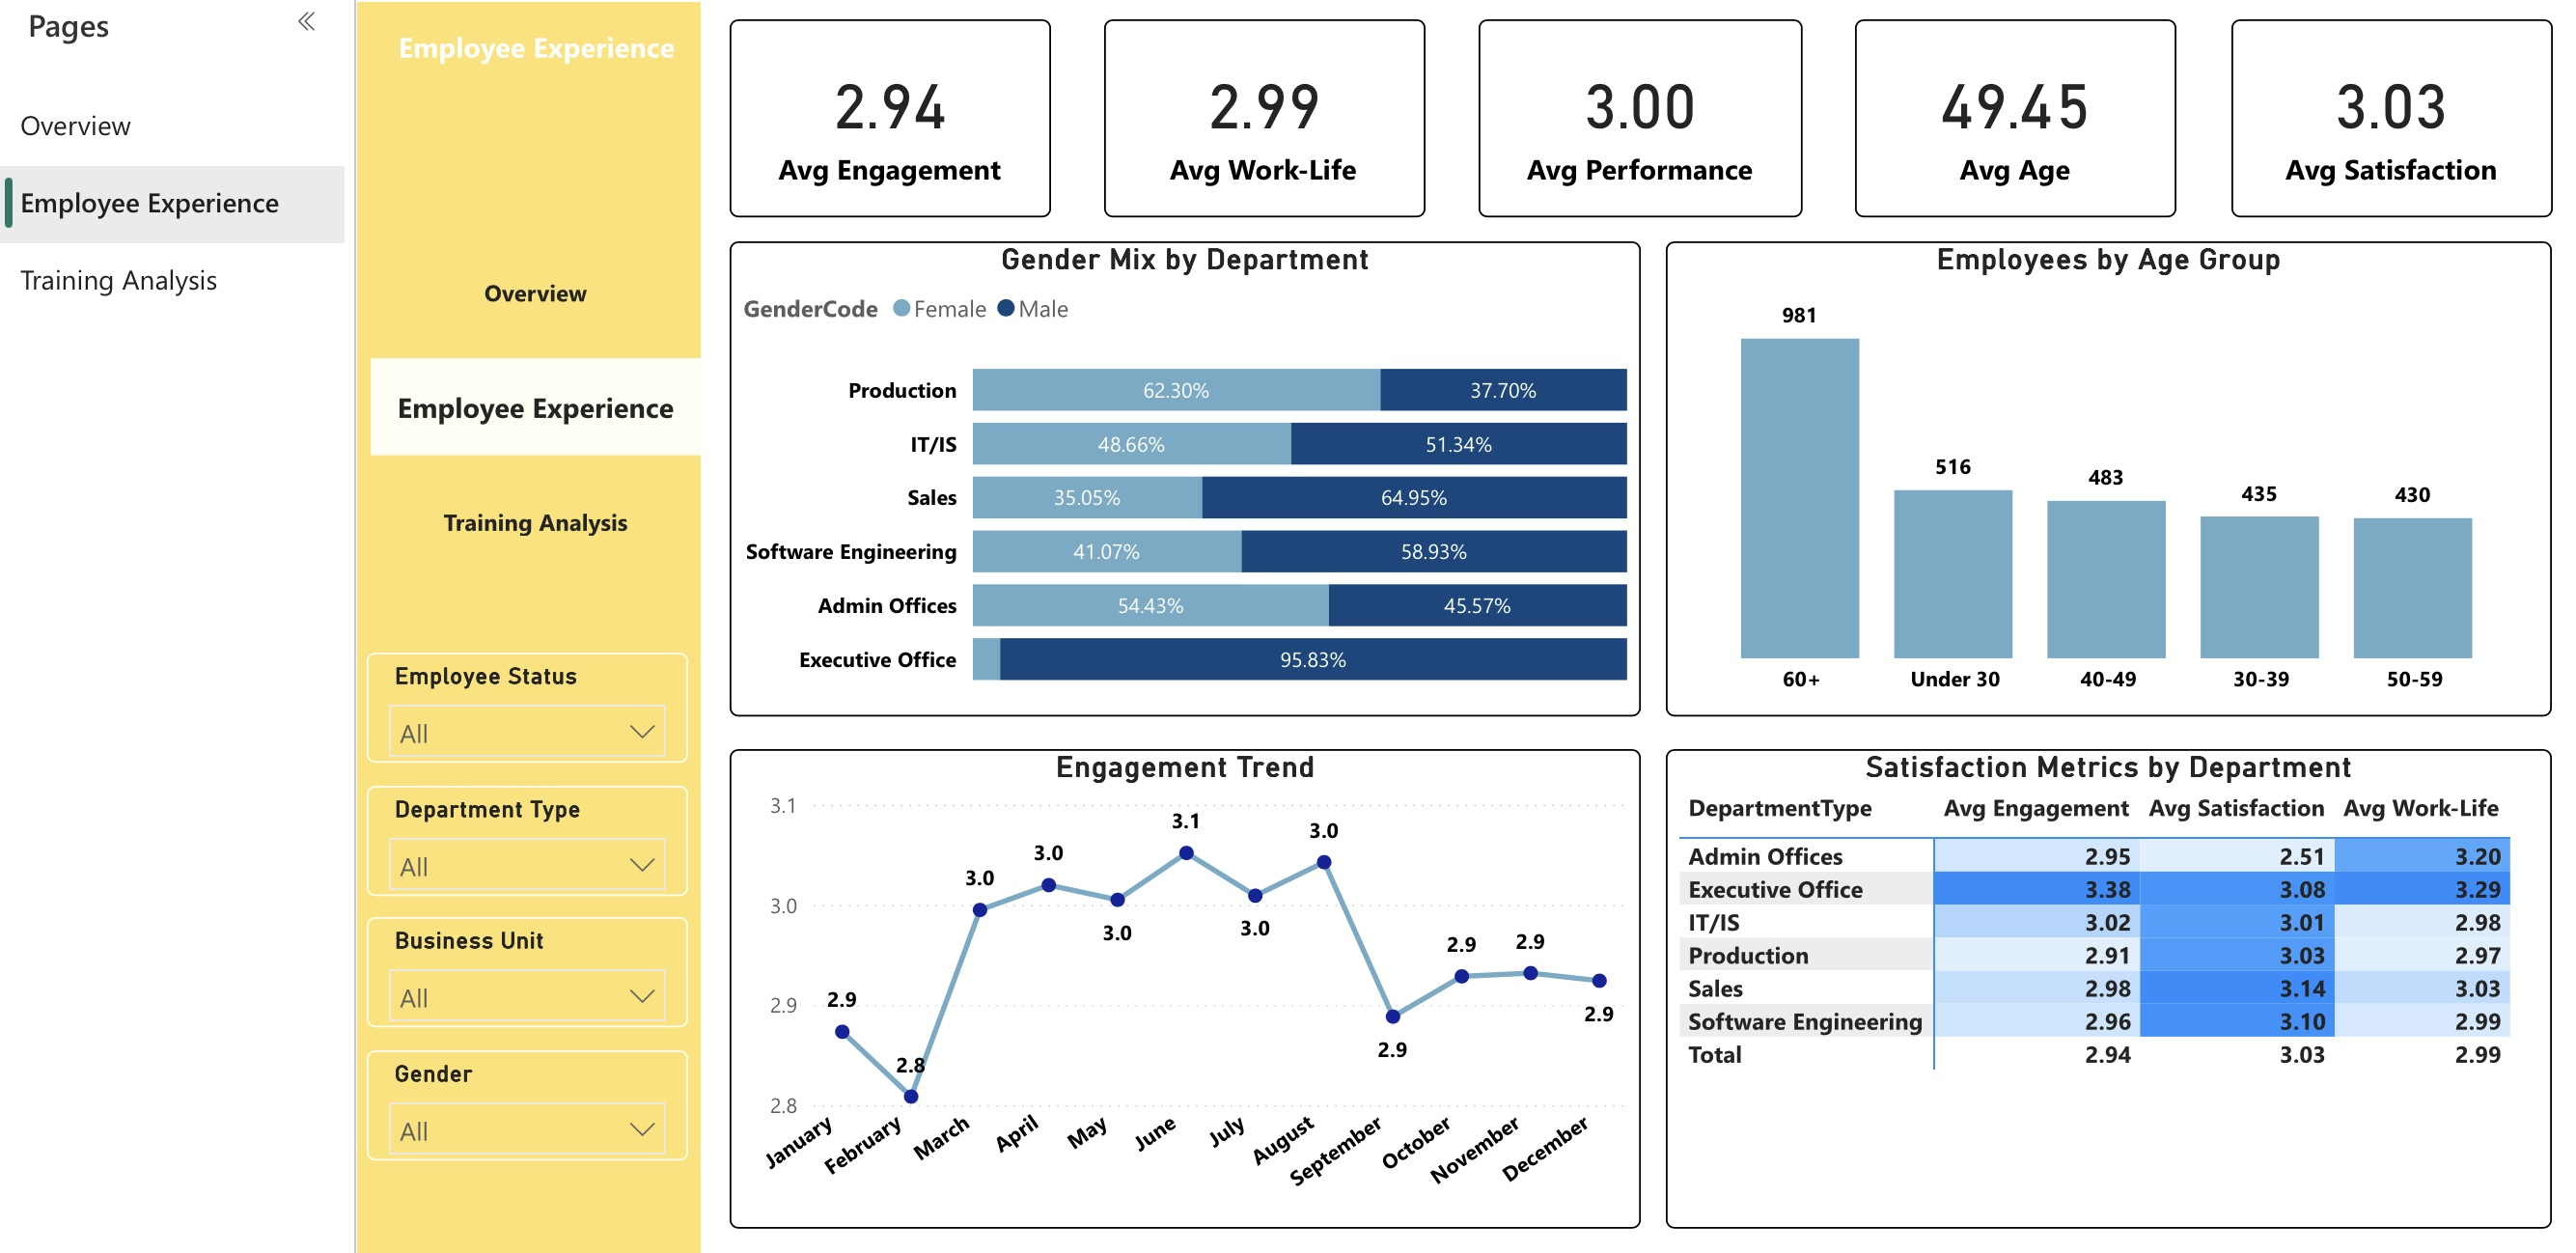

This screenshot's page, from the dashboard's own definition file:
{"tool":"powerbi","page":{"name":"Employee Experience","canvas":[1280,720],"ordinal":1},"visuals":[{"type":"shape","box":[0,0,198.1,720],"z":0},{"type":"textbox","box":[7.3,10.3,191,50],"z":1000},{"type":"pageNavigator","box":[7.2,138.8,190.8,190.8],"z":2000},{"type":"card","fields":{"Values":["Measure 1 Table.Avg Engagement"]},"box":[214,10.1,185.1,114.2],"z":3000},{"type":"card","fields":{"Values":["Measure 1 Table.Avg Work-Life"]},"box":[429.8,10.1,185.1,114.2],"z":4000},{"type":"card","fields":{"Values":["Measure 1 Table.Avg Performance"]},"box":[645.5,10.1,186.5,114.2],"z":5000},{"type":"card","fields":{"Values":["Measure 1 Table.Avg Age"]},"box":[862.8,10.1,185.1,114.2],"z":6000},{"type":"card","fields":{"Values":["Measure Table.Avg Satisfaction"]},"box":[1078.6,10.1,185.1,114.2],"z":7000},{"type":"pivotTable","title":"Satisfaction Metrics by Department","fields":{"Rows":["Cleaned_HR_Data_Analysis.DepartmentType"],"Values":["Measure 1 Table.Avg Engagement","Measure Table.Avg Satisfaction","Measure 1 Table.Avg Work-Life"]},"box":[753.8,430.5,509.9,276.2],"z":8000},{"type":"lineChart","title":"Engagement Trend","fields":{"Y":["Measure 1 Table.Avg Engagement"],"Category":["Cleaned_HR_Data_Analysis.Survey Date.Variation.Date Hierarchy.Month"]},"box":[214.5,430.5,524.6,276.2],"z":9000},{"type":"columnChart","title":"Employees by Age Group","fields":{"Category":["Cleaned_HR_Data_Analysis.Age Group"],"Y":["Measure Table.Total Employees"]},"box":[753.8,138.1,509.9,273.3],"z":10000},{"type":"hundredPercentStackedBarChart","title":"Gender Mix by Department","fields":{"Category":["Cleaned_HR_Data_Analysis.DepartmentType"],"Y":["Measure Table.Total Employees"],"Series":["Cleaned_HR_Data_Analysis.GenderCode"]},"box":[214.5,138.1,524.6,273.3],"z":11000},{"type":"slicer","fields":{"Values":["Cleaned_HR_Data_Analysis.Training Program Name"]},"box":[5.8,374.5,185.1,63.6],"z":12000},{"type":"slicer","fields":{"Values":["Cleaned_HR_Data_Analysis.Training Type"]},"box":[5.8,450.6,185.1,63.6],"z":13000},{"type":"slicer","fields":{"Values":["Cleaned_HR_Data_Analysis.BusinessUnit"]},"box":[5.8,526.7,185.1,63.6],"z":14000},{"type":"slicer","fields":{"Values":["Cleaned_HR_Data_Analysis.GenderCode"]},"box":[5.8,602.9,185.1,63.6],"z":15000}]}

Visuals, with their boxes on the page's 1280x720 design canvas (x1, y1, x2, y2). These are canvas units, not pixel positions in the 2576x1253 screenshot, which may show the page scaled, cropped or inside an application window:
shape: bbox=[0, 0, 198, 720]
textbox: bbox=[7, 10, 198, 60]
pageNavigator: bbox=[7, 139, 198, 330]
card - Measure 1 Table.Avg Engagement: bbox=[214, 10, 399, 124]
card - Measure 1 Table.Avg Work-Life: bbox=[430, 10, 615, 124]
card - Measure 1 Table.Avg Performance: bbox=[646, 10, 832, 124]
card - Measure 1 Table.Avg Age: bbox=[863, 10, 1048, 124]
card - Measure Table.Avg Satisfaction: bbox=[1079, 10, 1264, 124]
"Satisfaction Metrics by Department" pivotTable: bbox=[754, 430, 1264, 707]
"Engagement Trend" lineChart: bbox=[214, 430, 739, 707]
"Employees by Age Group" columnChart: bbox=[754, 138, 1264, 411]
"Gender Mix by Department" hundredPercentStackedBarChart: bbox=[214, 138, 739, 411]
slicer - Cleaned_HR_Data_Analysis.Training Program Name: bbox=[6, 374, 191, 438]
slicer - Cleaned_HR_Data_Analysis.Training Type: bbox=[6, 451, 191, 514]
slicer - Cleaned_HR_Data_Analysis.BusinessUnit: bbox=[6, 527, 191, 590]
slicer - Cleaned_HR_Data_Analysis.GenderCode: bbox=[6, 603, 191, 666]
